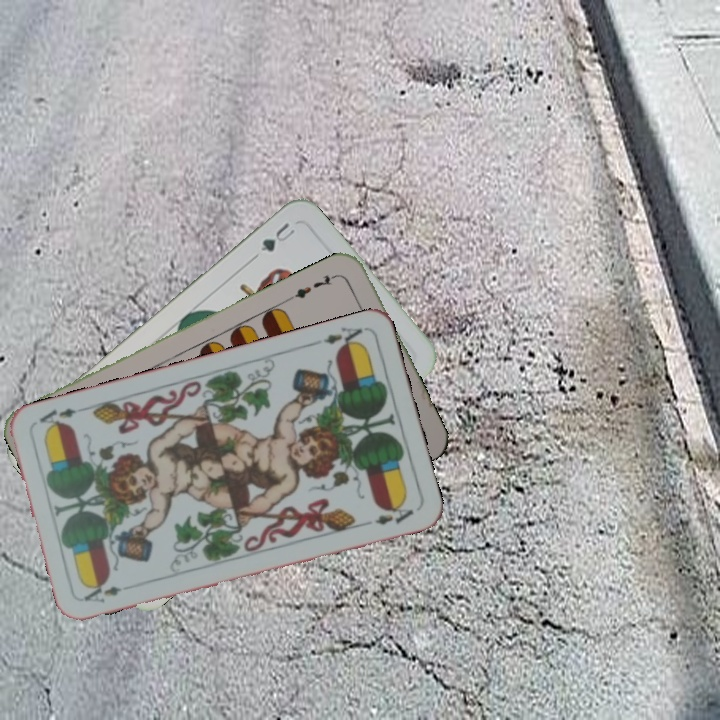E7: (286, 270, 342, 302)
EA: (310, 323, 365, 353), (80, 582, 124, 606)
GU: (256, 218, 298, 255)
